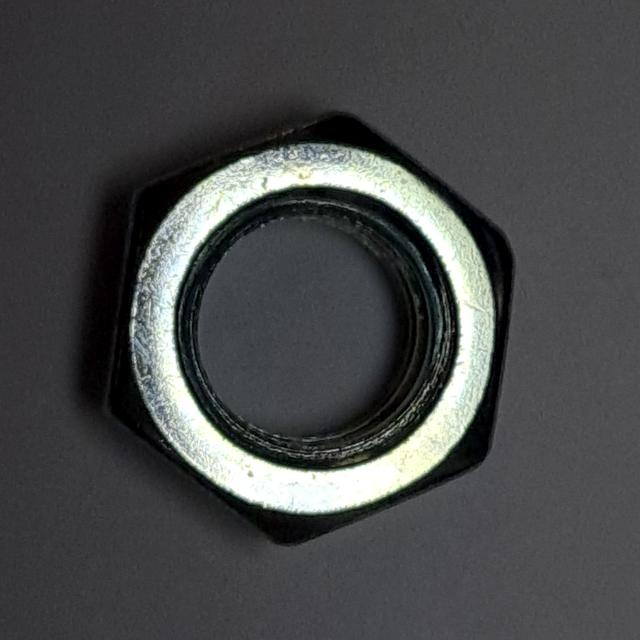Excellent: (87, 92, 524, 561)
